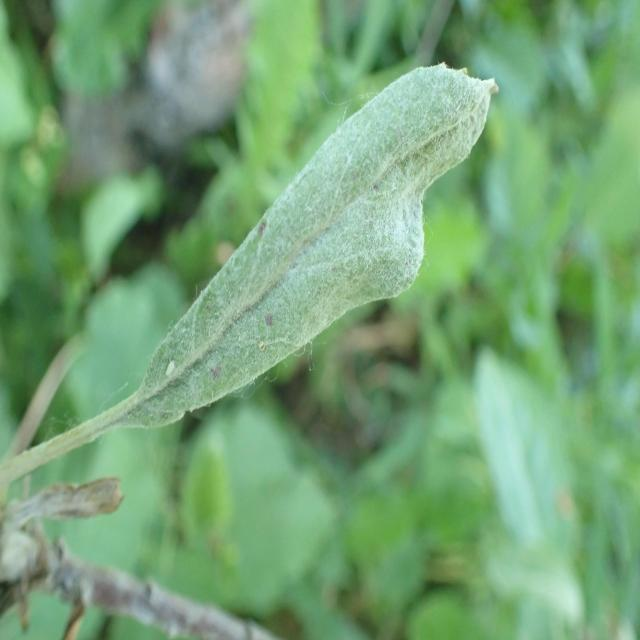Powdery_mildew: (116, 41, 498, 469)
